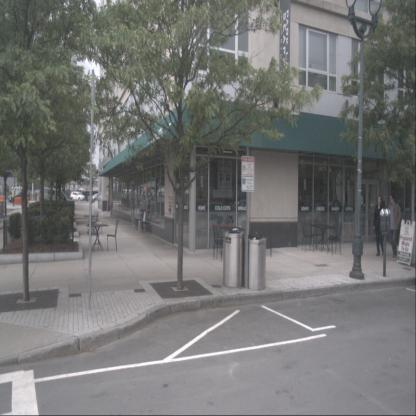human-pedestrian-adult: (386, 192, 402, 260), (374, 194, 386, 256)
movable_object-barrier: (12, 196, 29, 205)
vehicle-car: (40, 187, 72, 210), (8, 189, 30, 203), (70, 191, 85, 202), (90, 193, 104, 203)
